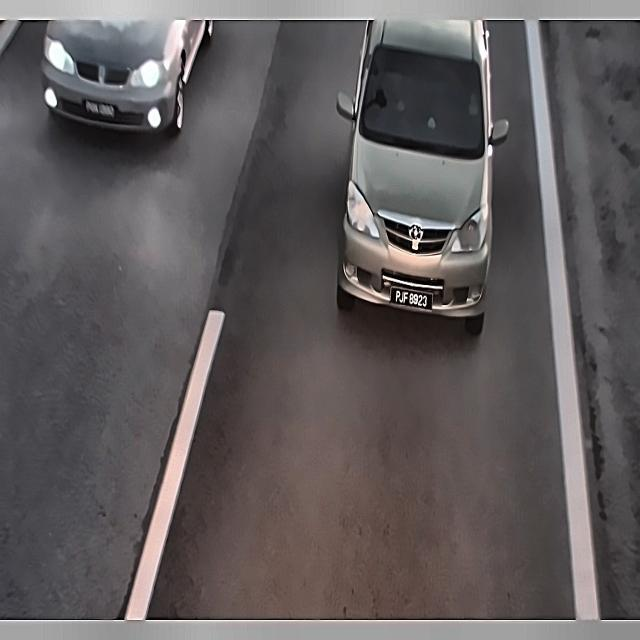car: (386, 281, 437, 314), (82, 97, 120, 119)
